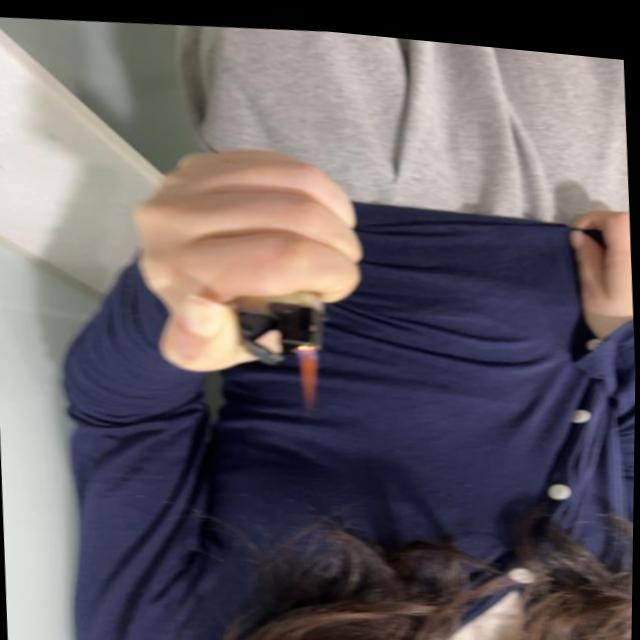Fire: (296, 335, 326, 410)
